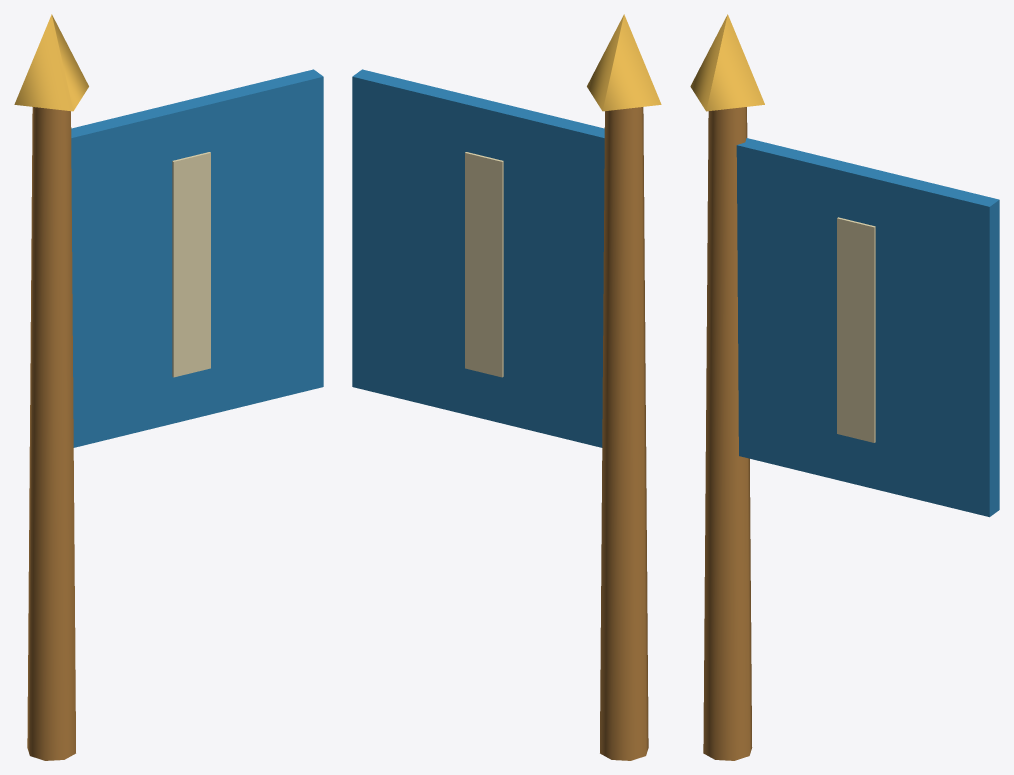
File: banner_blue.glb
The picture shows the model from 3 angles, left to right: view 1: azimuth 30°, elevation 25°; view 2: azimuth 150°, elevation 25°; view 3: azimuth 330°, elevation 25°; orthographic projection.
Visible parts, largest first — view 1: banner_blue; view 2: banner_blue; view 3: banner_blue.
Part boxes in pixels (bbox=[...]): banner_blue: bbox=[14, 14, 323, 760]; banner_blue: bbox=[352, 14, 661, 760]; banner_blue: bbox=[690, 14, 999, 760].
Bounding box in the file's own units: 0.975 × 2.26 × 0.24.
